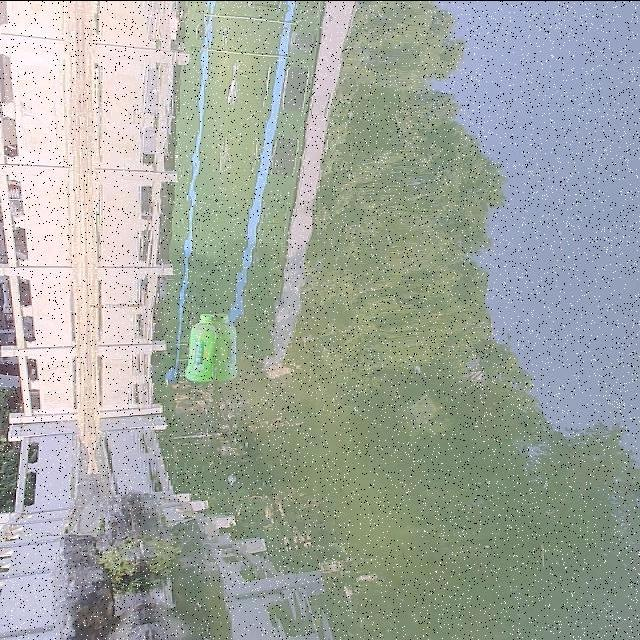Bottle: (178, 303, 226, 391)
